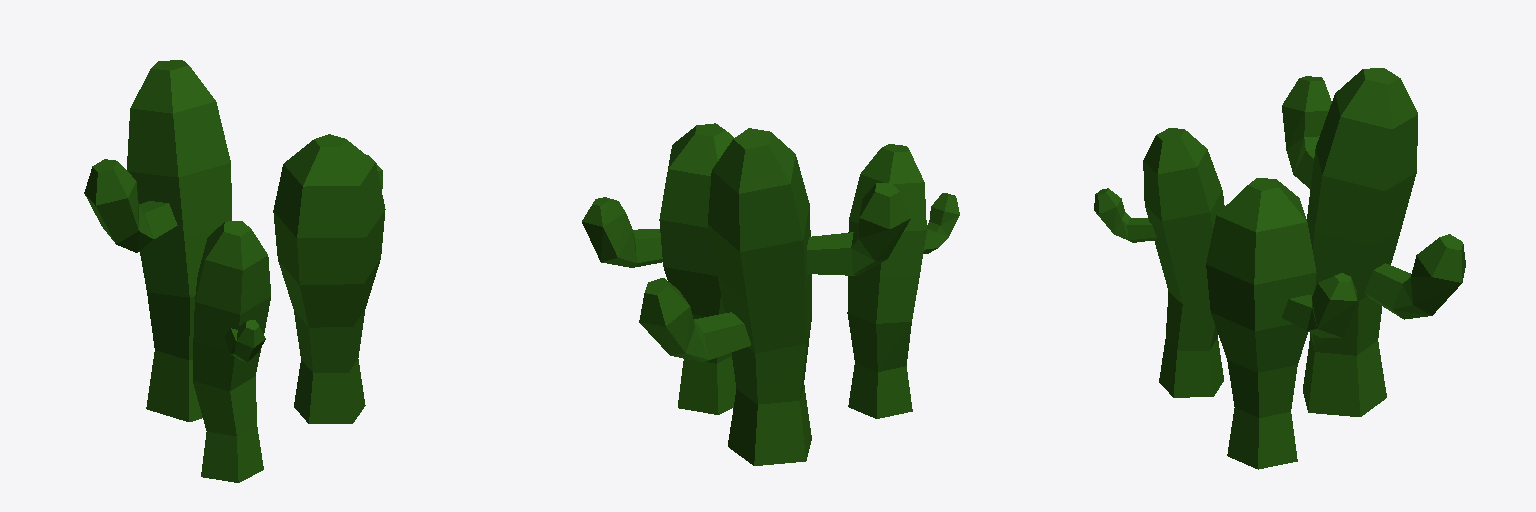
File: Cactus.obj
The picture shows the model from 3 angles: view 1: azimuth 30°, elevation 25°; view 2: azimuth 150°, elevation 25°; view 3: azimuth 270°, elevation 25°; orthographic projection.
Parts seen in each view (by area): view 1: Cactus_Mesh; view 2: Cactus_Mesh; view 3: Cactus_Mesh.
Part boxes in pixels (x1,y1,x2,y2): Cactus_Mesh: (84, 60, 385, 482); Cactus_Mesh: (582, 123, 959, 465); Cactus_Mesh: (1094, 68, 1465, 469).
Size of the model in its own units: 2.62 by 2.73 by 2.78.